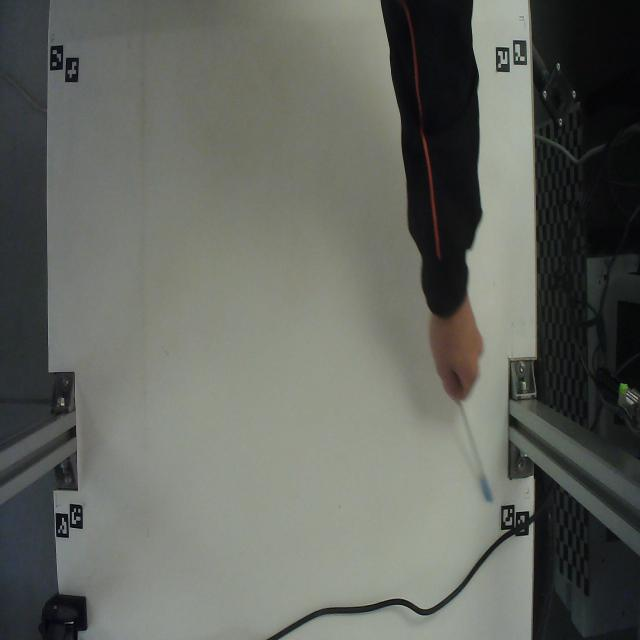NoPres: (448, 396, 498, 510)
